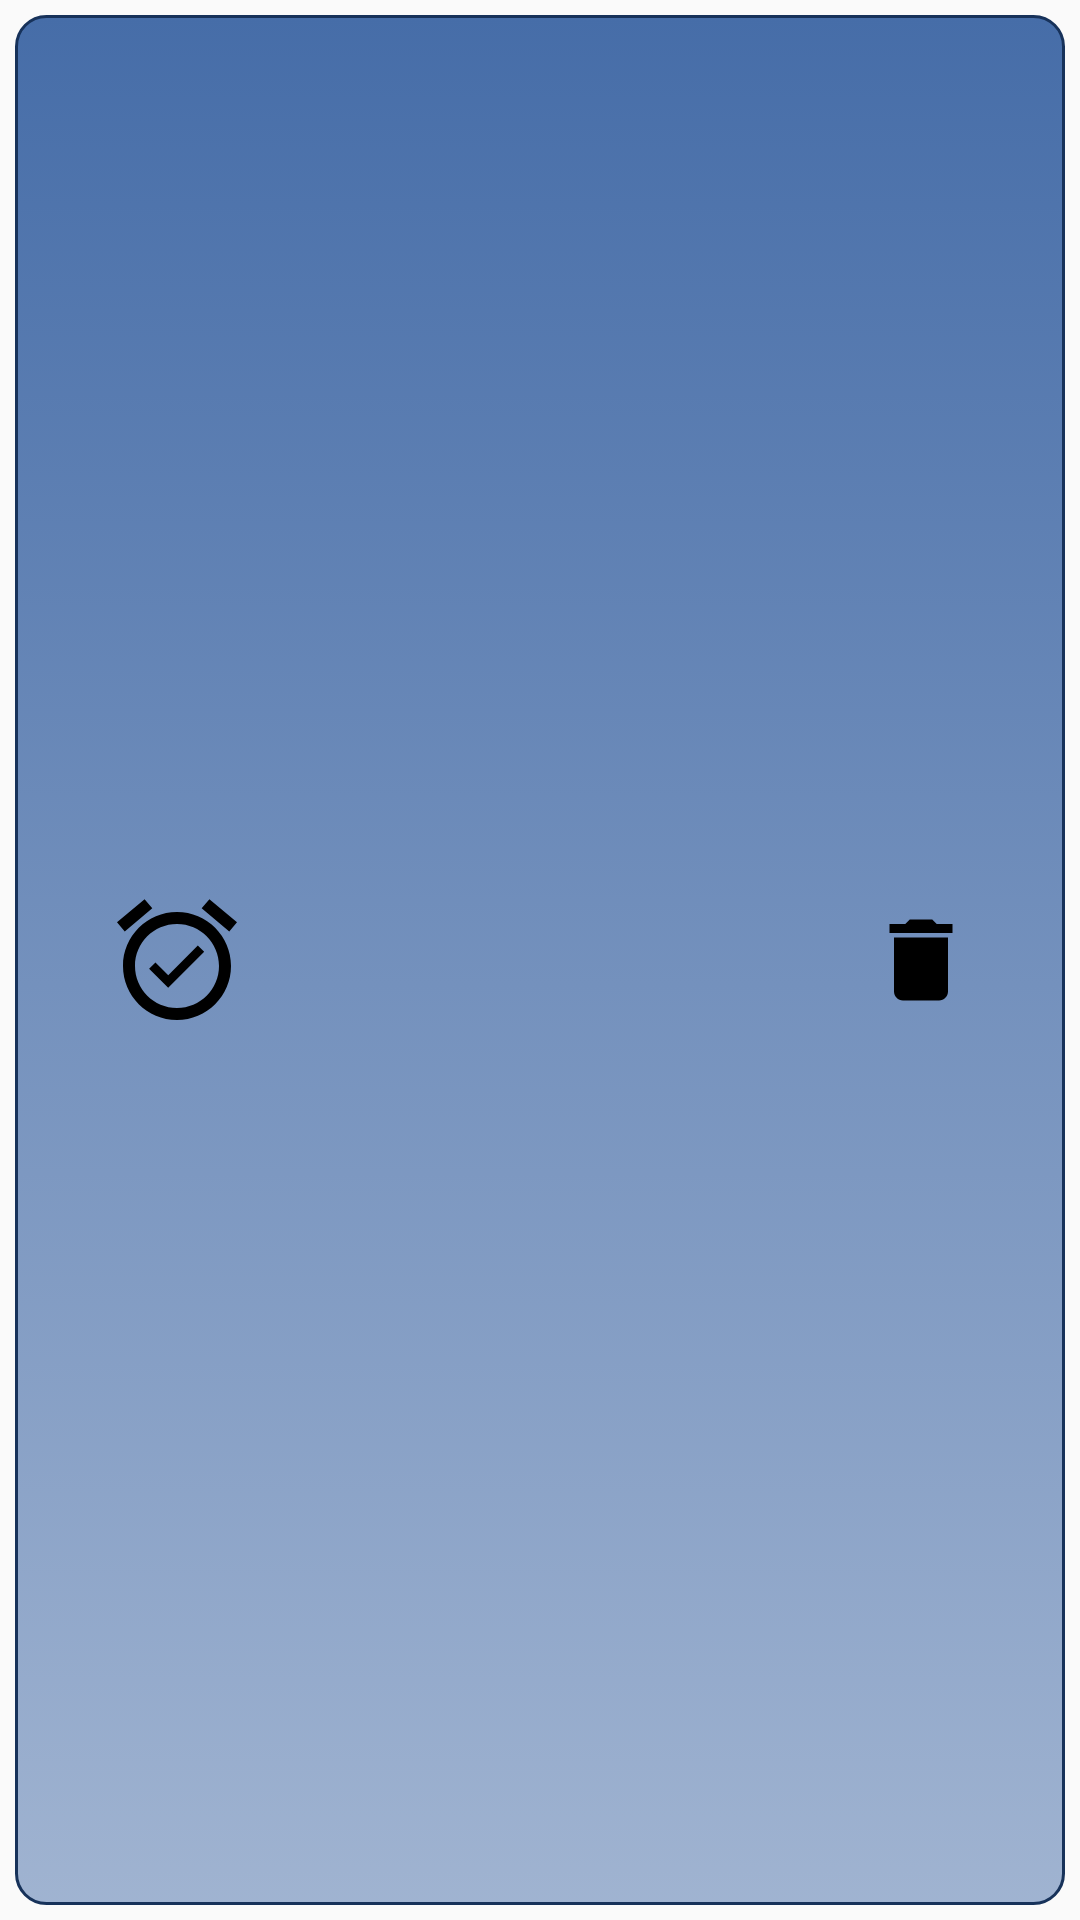

Icon bounding boxes for this 1080*1920 phone screenshot, format (x1, y1, x2, y2):
alarm on: (117, 899, 237, 1020)
Deletar Caixa: (889, 919, 953, 1001)
